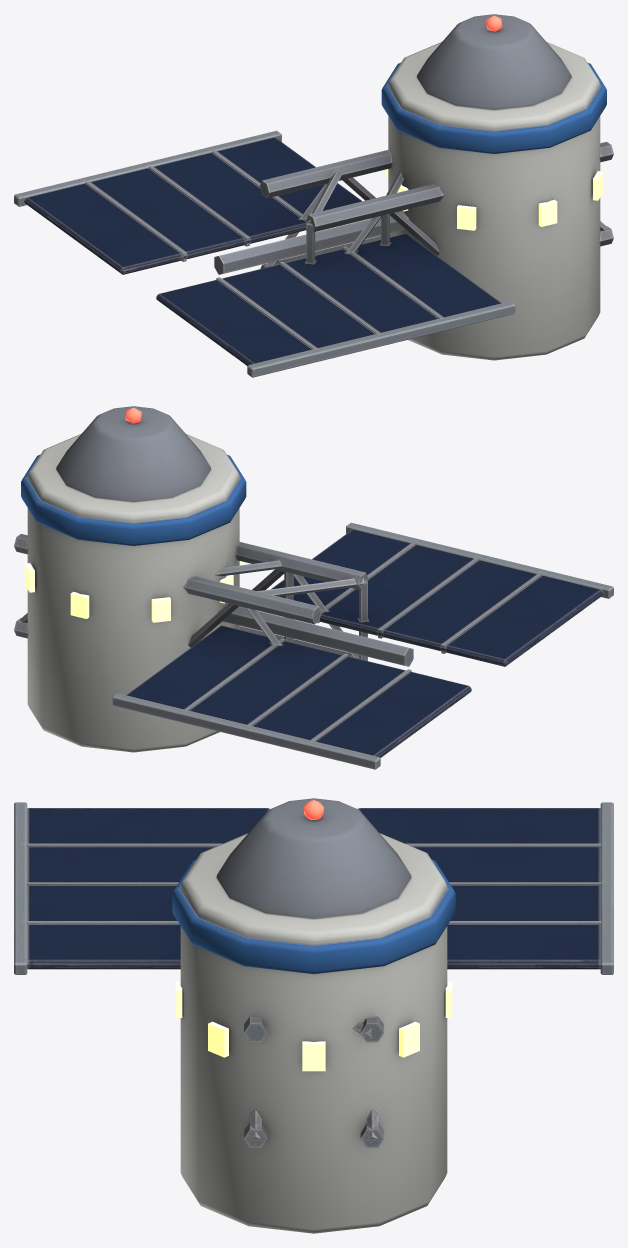
File: parker_end.glb
3 renders of one model, top to bottom at view 1: azimuth 30°, elevation 25°; view 2: azimuth 150°, elevation 25°; view 3: azimuth 270°, elevation 25°, orthographic. The views are drawn at different scales.
Visible parts, largest first — view 1: parker_end, parker_end_glow; view 2: parker_end, parker_end_glow; view 3: parker_end, parker_end_glow.
Boxes of the visible parts, x1,y1,x2,y2 form: parker_end: (14, 14, 613, 377); parker_end_glow: (385, 15, 602, 230); parker_end: (14, 406, 613, 769); parker_end_glow: (25, 407, 242, 622); parker_end: (14, 798, 613, 1233); parker_end_glow: (175, 800, 452, 1071).
Size of the model in its own units: 4 by 2.52 by 3.6.
Materials: 3 (1 with a texture image).
